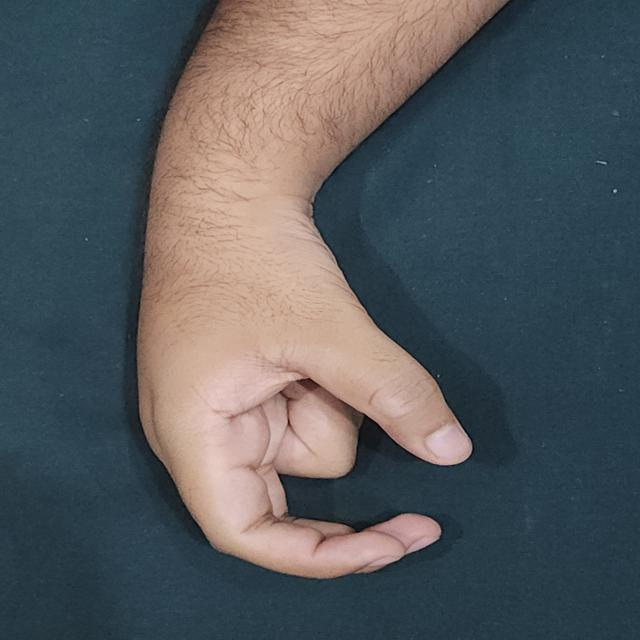ٹ: (79, 169, 509, 595)
